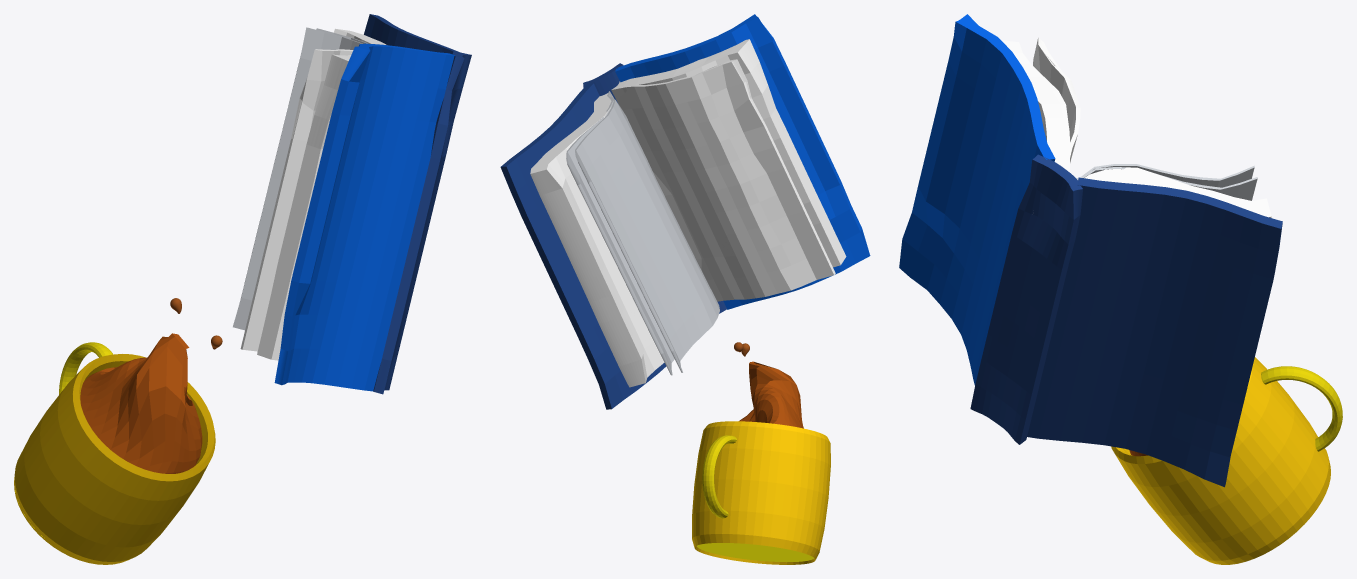
File: coffee_book.glb
The picture shows the model from 3 angles, left to right: view 1: azimuth 30°, elevation 25°; view 2: azimuth 150°, elevation 25°; view 3: azimuth 270°, elevation 25°; orthographic projection. The views are drawn at different scales.
Visible parts, largest first — view 1: Cube.007, Sphere.002; view 2: Cube.007, Sphere.002; view 3: Cube.007, Sphere.002.
Part boxes in pixels (x1,y1,x2,y2): Cube.007: [233, 14, 471, 394]; Sphere.002: [14, 298, 222, 564]; Cube.007: [500, 14, 870, 409]; Sphere.002: [692, 342, 830, 564]; Cube.007: [899, 14, 1282, 487]; Sphere.002: [1111, 357, 1342, 564].
Bounding box in the file's own units: 0.2572 × 0.3743 × 0.2499.
